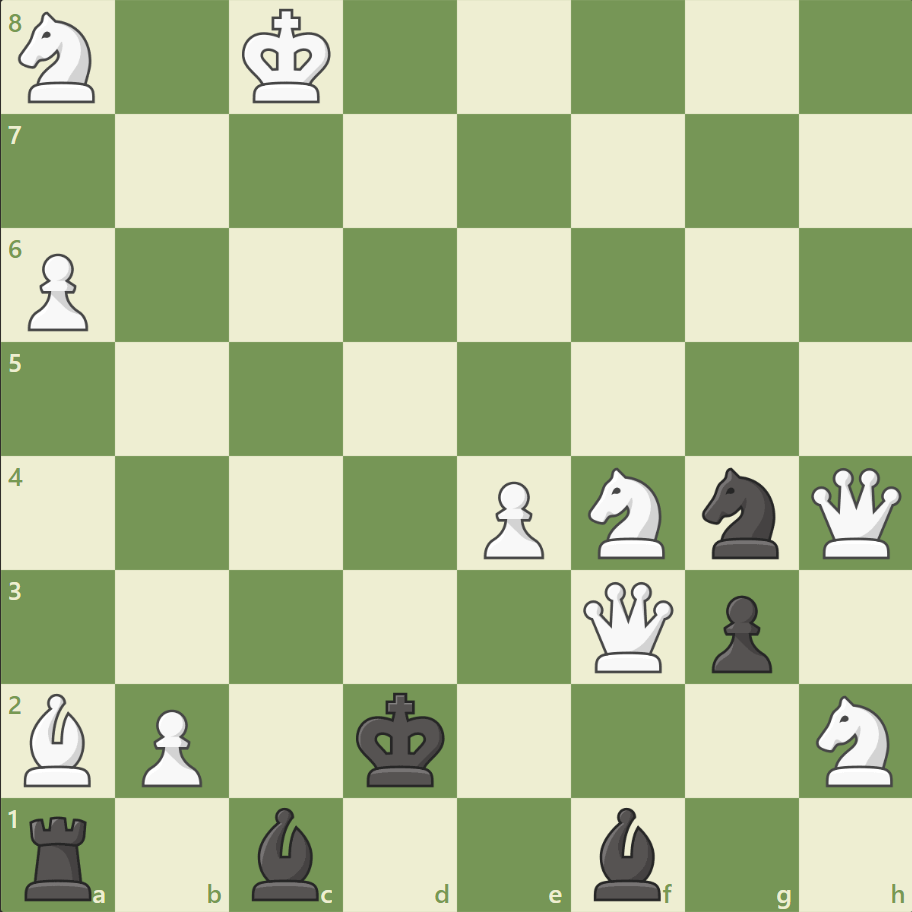B: (17, 687, 101, 790)
K: (238, 4, 338, 112)
N: (11, 7, 108, 110), (579, 461, 676, 564), (806, 688, 903, 791)
P: (20, 246, 95, 337), (474, 473, 549, 564), (133, 700, 208, 791)
Q: (578, 576, 677, 676), (805, 463, 904, 562)
b: (244, 801, 328, 904), (585, 801, 669, 904)
k: (351, 685, 451, 793)
n: (692, 461, 789, 564)
p: (701, 586, 776, 677)
r: (19, 806, 102, 904)
